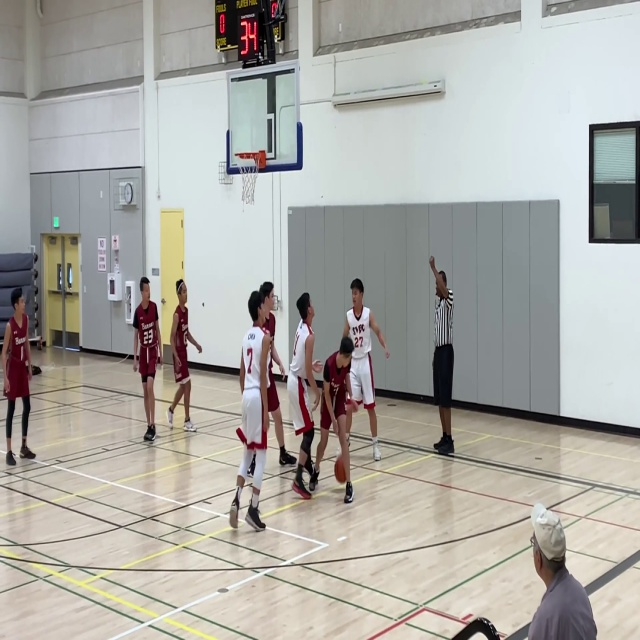Basketball: (334, 457, 346, 483)
